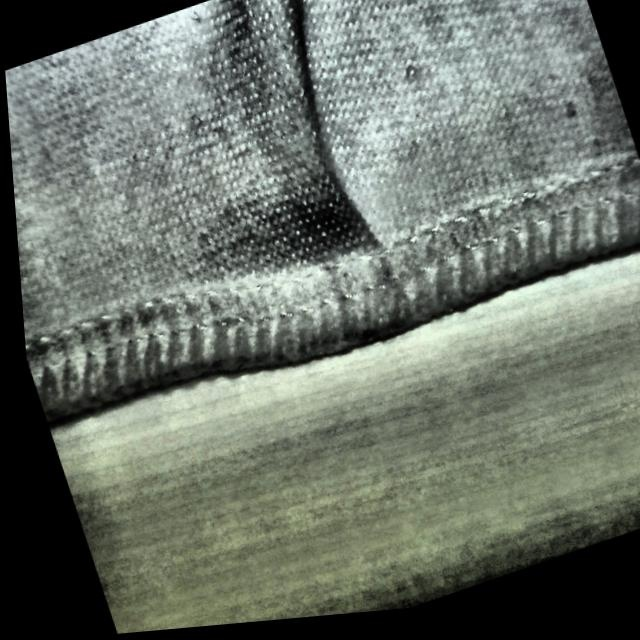seam: (185, 3, 478, 383)
